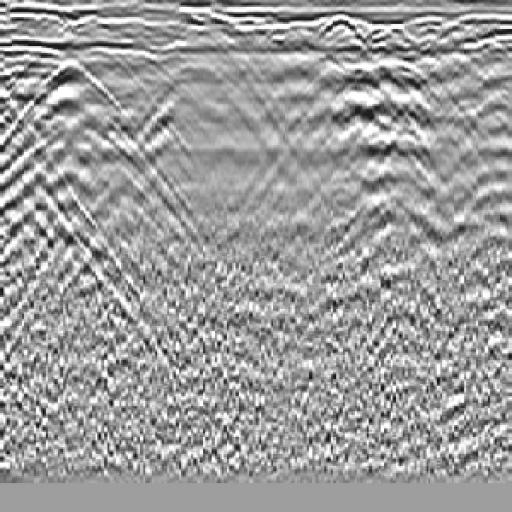non-metallic: (1, 37, 189, 281)
